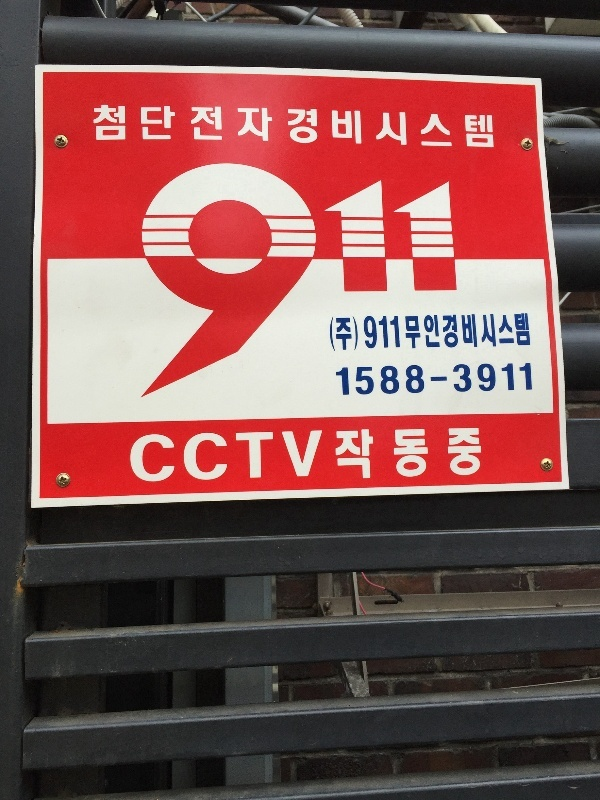text: (145, 158, 160, 405), (161, 158, 176, 405), (177, 158, 192, 405), (193, 158, 208, 405), (209, 158, 224, 405), (225, 158, 240, 405), (241, 158, 256, 405), (257, 158, 272, 405), (273, 158, 288, 405), (289, 158, 304, 405), (305, 158, 320, 405), (321, 158, 336, 405), (337, 158, 352, 405), (353, 158, 368, 405), (369, 158, 384, 405), (385, 158, 400, 405), (401, 158, 416, 405), (417, 158, 432, 405), (433, 158, 448, 405), (449, 158, 460, 405), (140, 158, 144, 405), (145, 431, 160, 486), (161, 431, 176, 486), (177, 431, 192, 486), (193, 431, 208, 486), (209, 431, 224, 486), (225, 431, 240, 486), (241, 431, 256, 486), (257, 431, 272, 486), (273, 431, 288, 486), (289, 431, 304, 486), (305, 431, 320, 486), (337, 430, 352, 483), (353, 430, 368, 483), (369, 430, 384, 483), (385, 430, 400, 483), (401, 430, 416, 483), (417, 430, 432, 483), (433, 430, 448, 483), (449, 430, 464, 483), (465, 430, 480, 483), (97, 105, 112, 151), (113, 105, 128, 151), (129, 105, 144, 151), (145, 105, 160, 151), (161, 105, 176, 151), (177, 105, 192, 151), (193, 105, 208, 151), (209, 105, 224, 151), (225, 105, 240, 151), (241, 105, 256, 151), (257, 105, 272, 151), (273, 105, 288, 151), (289, 105, 304, 151), (305, 105, 320, 151), (321, 105, 336, 151), (337, 105, 352, 151), (353, 105, 368, 151), (369, 105, 384, 151), (385, 105, 400, 151), (401, 105, 416, 151), (417, 105, 432, 151), (433, 105, 448, 151), (449, 105, 464, 151), (465, 105, 480, 151), (132, 431, 144, 486), (481, 105, 495, 151), (417, 313, 432, 351), (433, 313, 448, 351), (449, 313, 464, 351), (465, 313, 480, 351), (481, 313, 496, 351), (497, 313, 512, 351), (513, 313, 528, 351), (337, 363, 352, 397), (353, 363, 368, 397), (369, 363, 384, 397), (385, 363, 400, 397), (401, 363, 416, 397), (417, 363, 432, 397), (433, 363, 448, 397), (449, 363, 464, 397), (465, 363, 480, 397), (481, 363, 496, 397), (497, 363, 512, 397), (513, 363, 528, 397), (337, 318, 352, 352), (369, 315, 384, 349), (385, 315, 400, 349), (405, 313, 416, 351), (330, 318, 336, 352), (353, 318, 358, 352), (481, 430, 484, 483), (529, 363, 533, 397), (364, 315, 368, 349), (321, 431, 323, 486), (529, 313, 531, 351), (95, 105, 96, 151)
